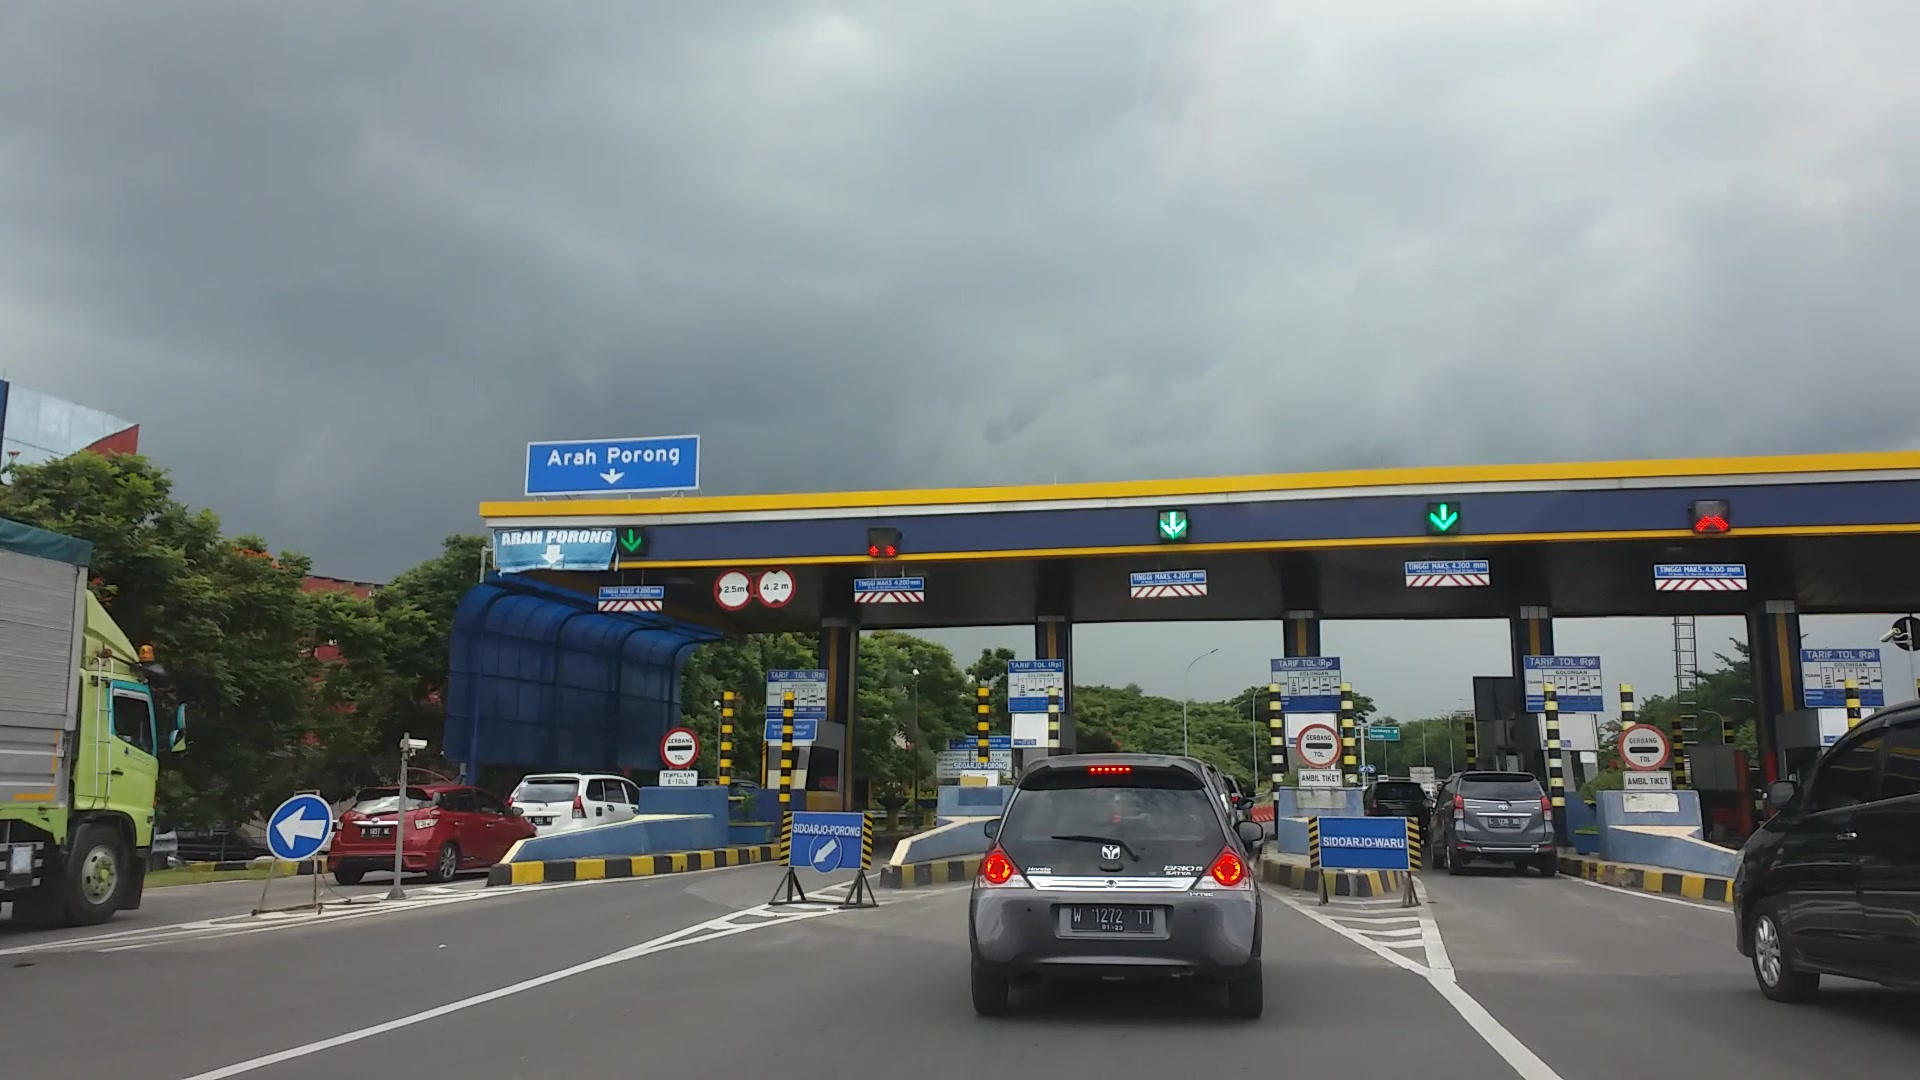plate_positive: (1069, 905, 1153, 934)
